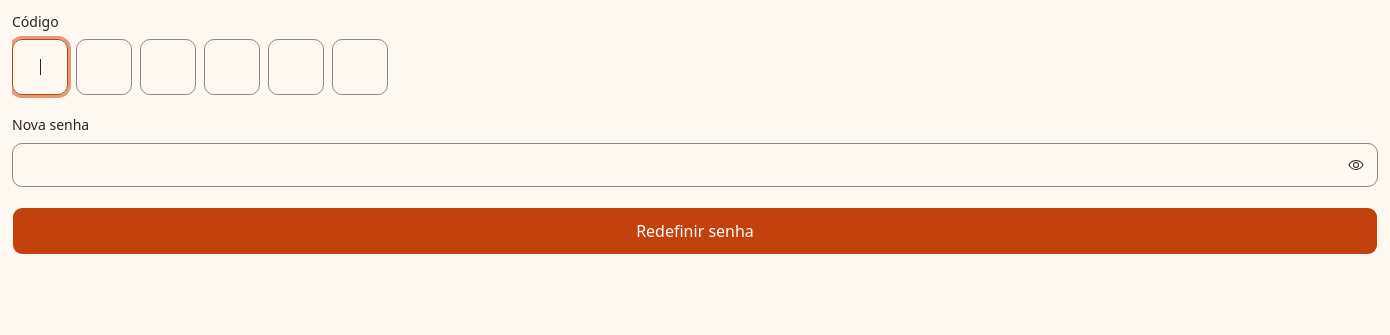
Test: ResetPasswordForm › explains a CodeExpired answer
In the field labelled "Código": (695, 67) [12,39,1378,95], type "ab3d9x"
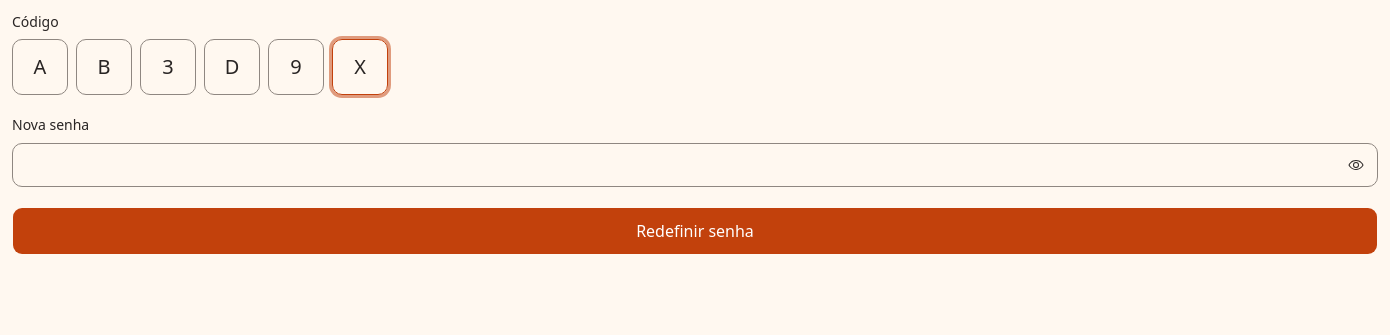
In the password field labelled "Nova senha": (695, 164) [12,142,1378,186], type " newsecret "
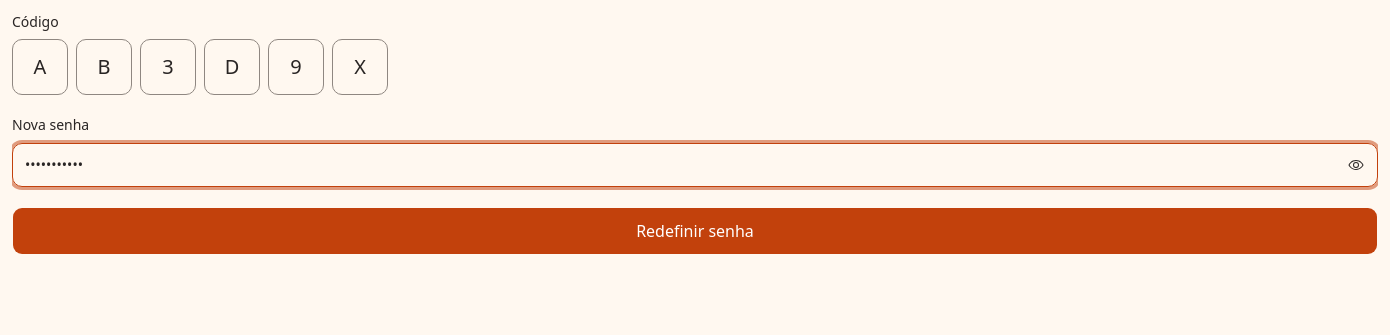
Click the button "Redefinir senha": (695, 230) [12,206,1378,254]
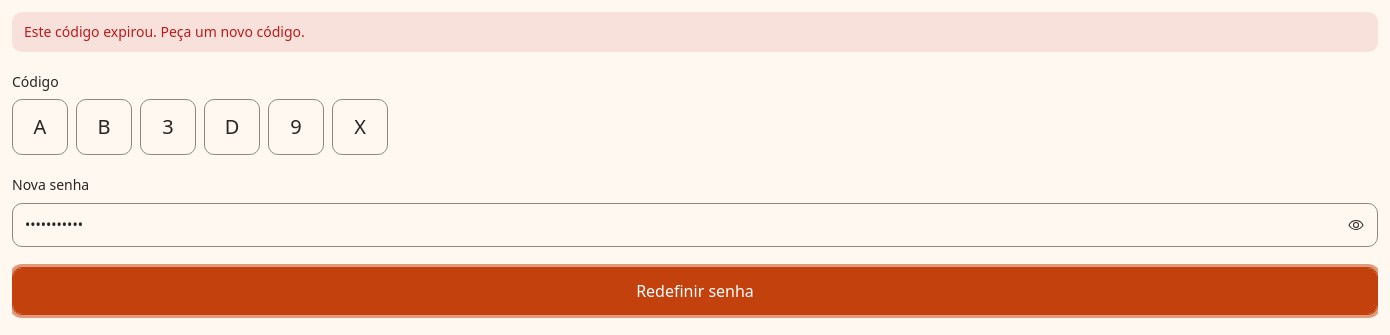
expect the message shows "Este código expirou": met, box [24,22,305,41]
